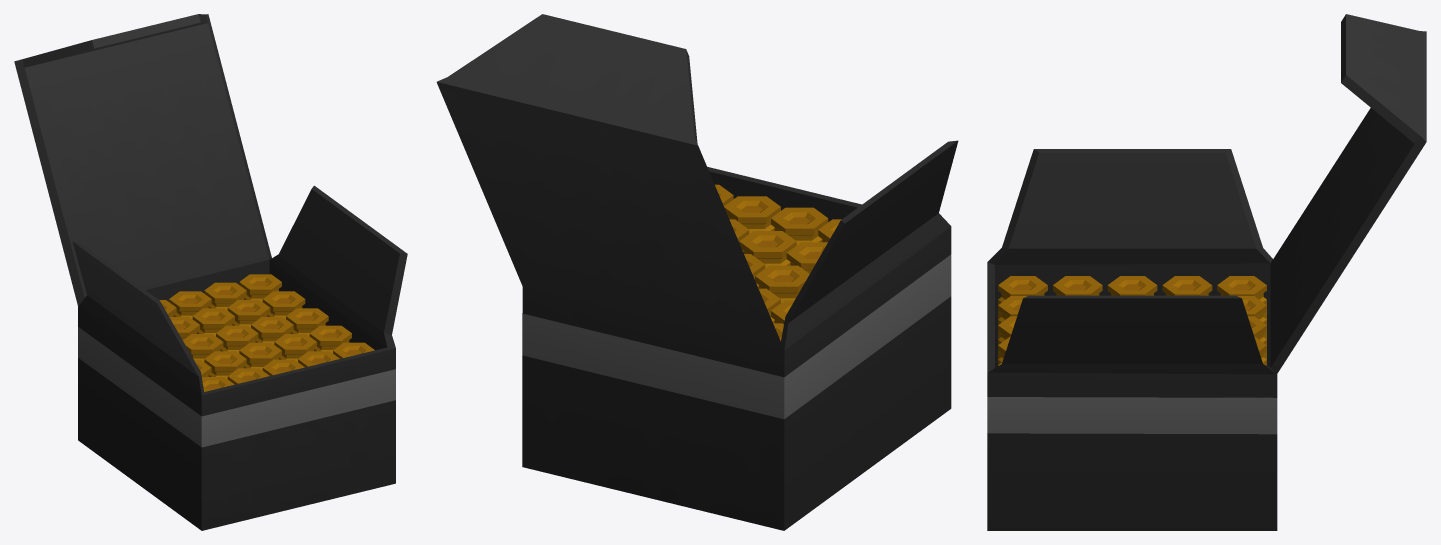
The model's file is AmmoBox_9_V1.glb.
3 views of the same model, side by side, from view 1: azimuth 30°, elevation 25°; view 2: azimuth 150°, elevation 25°; view 3: azimuth 270°, elevation 25° (orthographic). The views are drawn at different scales.
Parts seen in each view (by area): view 1: PistolAmmoBox_9_V1; view 2: PistolAmmoBox_9_V1; view 3: PistolAmmoBox_9_V1.
Part boxes in pixels (bbox=[...]): PistolAmmoBox_9_V1: bbox=[14, 14, 407, 530]; PistolAmmoBox_9_V1: bbox=[436, 14, 958, 530]; PistolAmmoBox_9_V1: bbox=[987, 14, 1426, 530].
Bounding box in the file's own units: 0.0601 × 0.0859 × 0.0794.
Materials: 1 (1 with a texture image).
